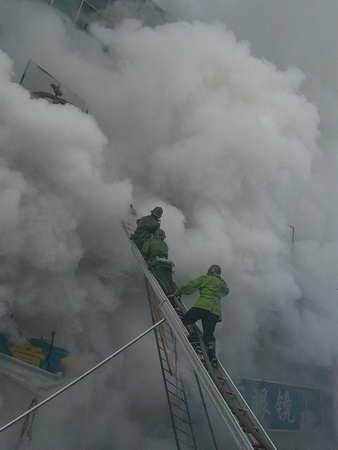smoke: (8, 28, 321, 222)
